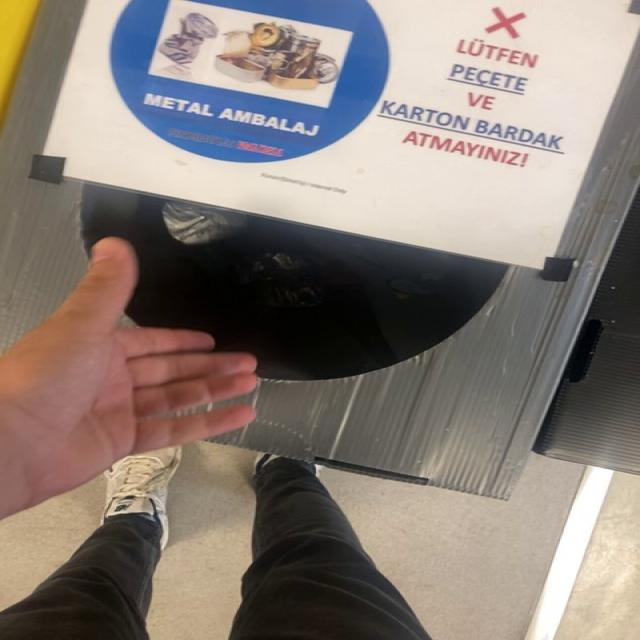bin: (3, 6, 637, 498)
metal: (161, 201, 245, 246)
